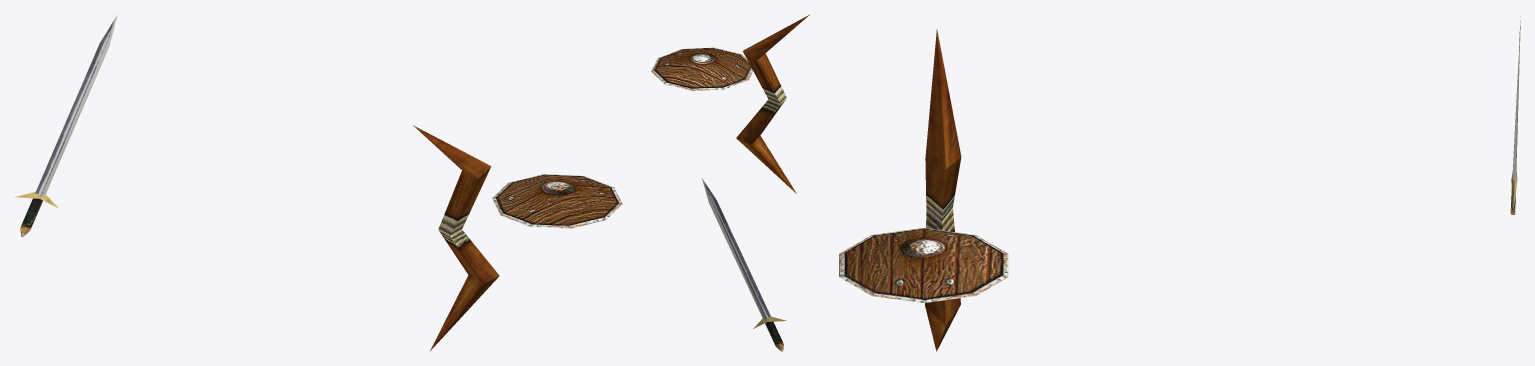
The model's file is 3ditems.dae.
The picture shows the model from 3 angles, left to right: view 1: azimuth 30°, elevation 25°; view 2: azimuth 150°, elevation 25°; view 3: azimuth 270°, elevation 25°; orthographic projection. The views are drawn at different scales.
Visible parts, largest first — view 1: shield, bow, sword; view 2: shield, bow, sword; view 3: shield, bow, sword.
Boxes of the visible parts, x1,y1,x2,y2 form: shield: (492, 174, 622, 228); bow: (413, 125, 499, 350); sword: (14, 15, 117, 237); shield: (651, 47, 752, 90); bow: (736, 14, 809, 193); sword: (702, 178, 786, 351); shield: (839, 228, 1008, 302); bow: (925, 29, 961, 351); sword: (1510, 15, 1520, 214).
Bounding box in the file's own units: 658 × 753 × 381.
Materials: 3 (3 with a texture image).
